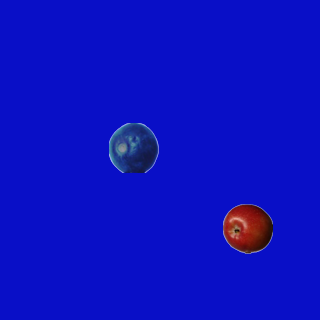Apple Braeburn: (222, 203, 272, 253)
Huckleberry: (108, 122, 158, 172)
